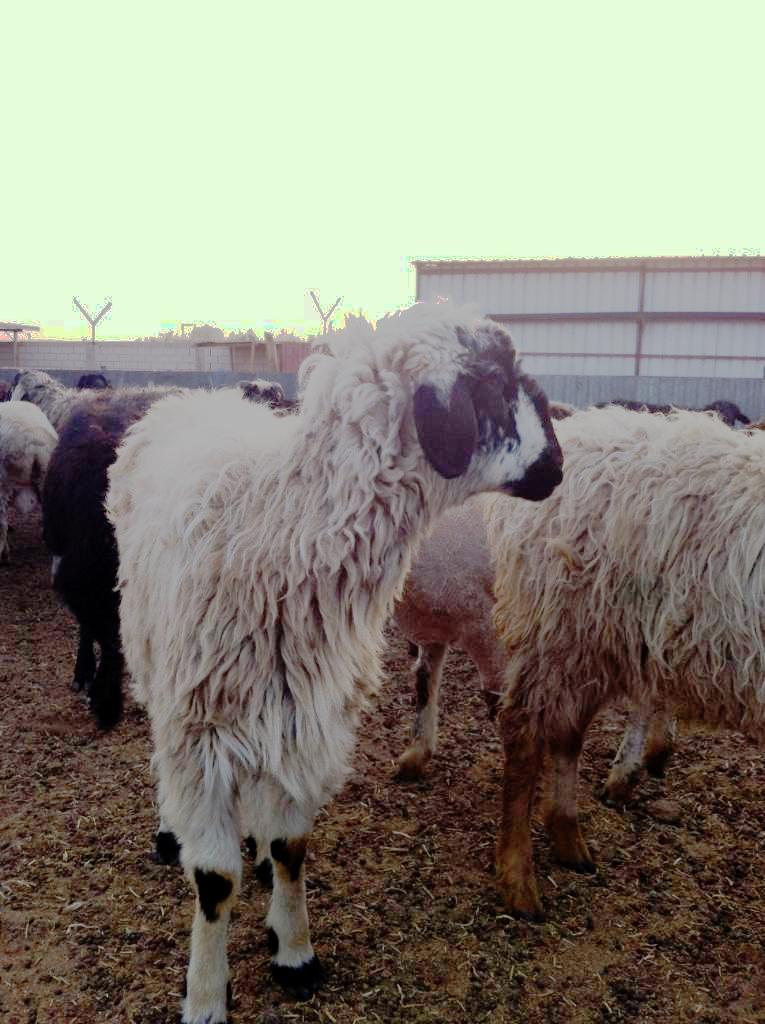Sheep: (118, 303, 549, 965), (495, 377, 765, 913), (15, 355, 282, 507)
